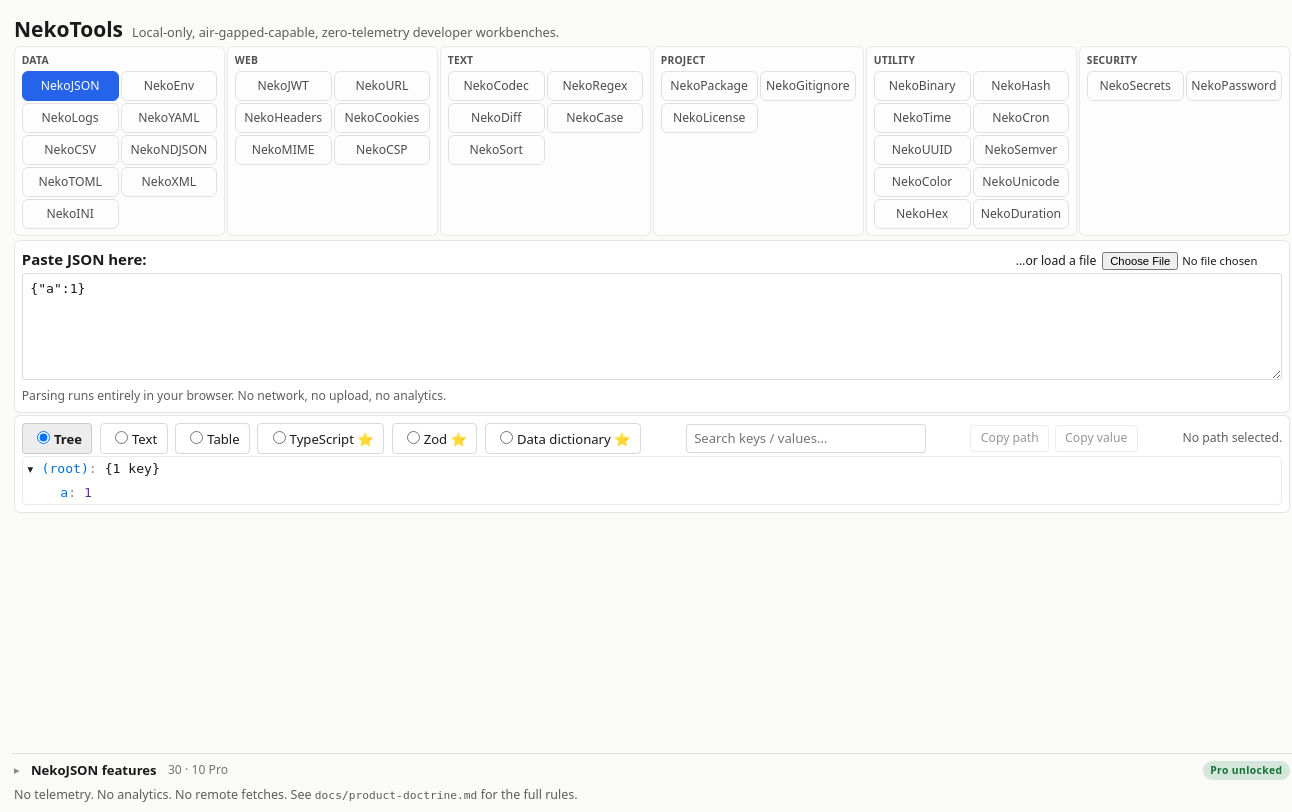
Scenario: App integration › Phase 2.x.2: the NekoLogs tab toggles panel visibility (all three stay mounted)
The image size is (1292, 812).
Click the button with test id "tool-tab-logs" at (70, 118), box [22,103,119,133]
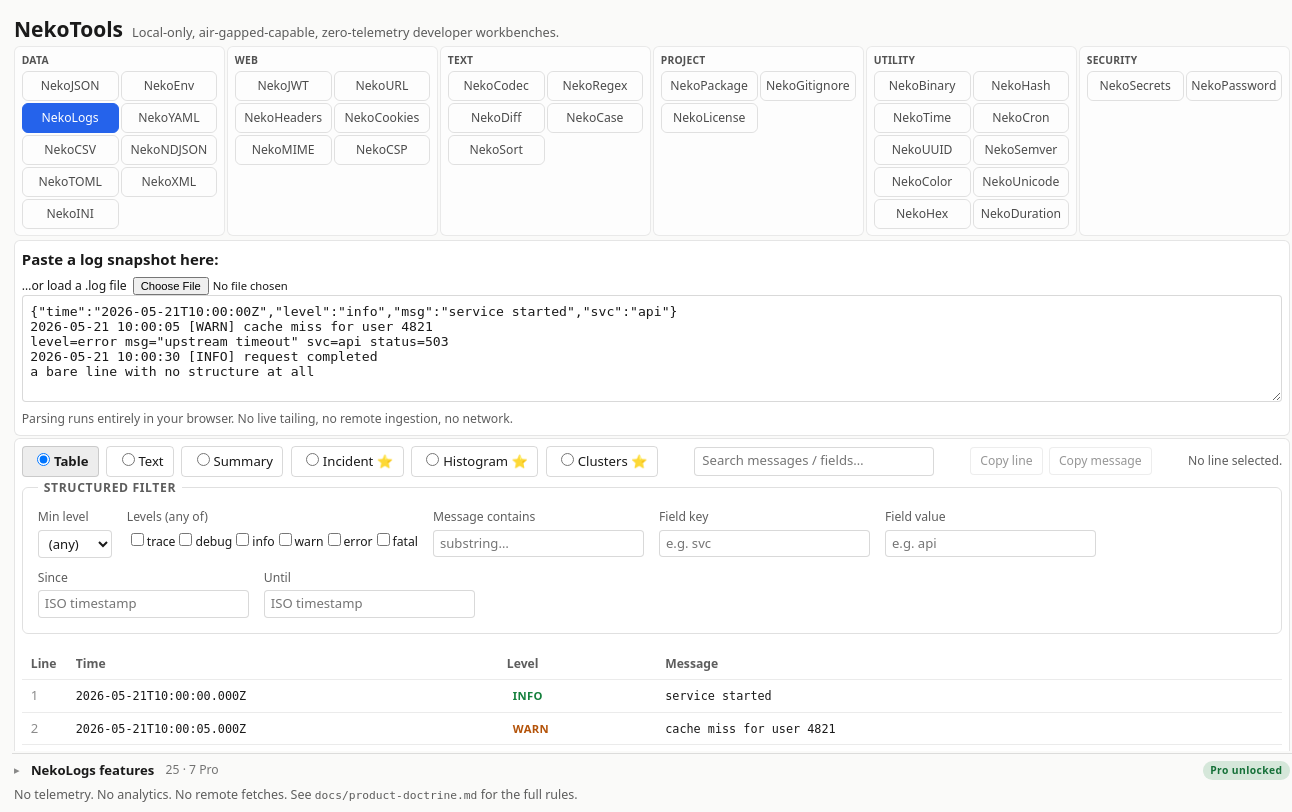
Expected: the element with test id "tool-panel-logs" is shown
Expected: the element with test id "tool-panel-json" is gone
